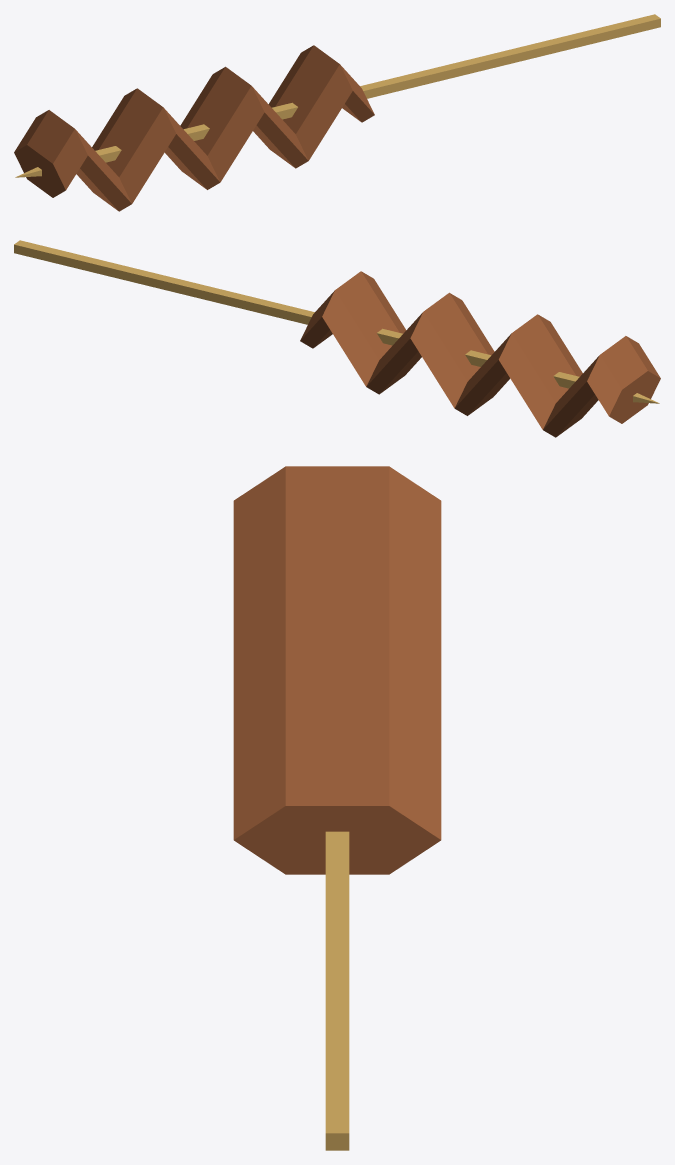
File: SM_Cook_SkewerMooPing_Grilled_01.fbx
3 views of the same model, one above another, from view 1: azimuth 30°, elevation 25°; view 2: azimuth 150°, elevation 25°; view 3: azimuth 270°, elevation 25° (orthographic). The views are drawn at different scales.
Visible parts, largest first — view 1: SM_Cook_SkewerMooPing_Grilled_01; view 2: SM_Cook_SkewerMooPing_Grilled_01; view 3: SM_Cook_SkewerMooPing_Grilled_01.
Part boxes in pixels (x1,y1,x2,y2): SM_Cook_SkewerMooPing_Grilled_01: (14,14,660,211); SM_Cook_SkewerMooPing_Grilled_01: (14,240,660,437); SM_Cook_SkewerMooPing_Grilled_01: (233,466,441,1150).
Size of the model in its own units: 0.25 by 0.0348 by 0.035.
1 material, 1 textured.
